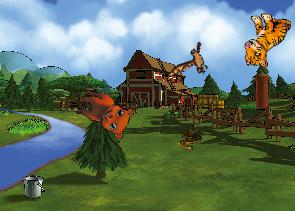bear: (70, 87, 136, 141)
eagle: (164, 34, 217, 92)
tiger: (242, 11, 291, 68)
